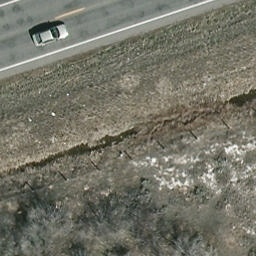car: (32, 25, 70, 49)
